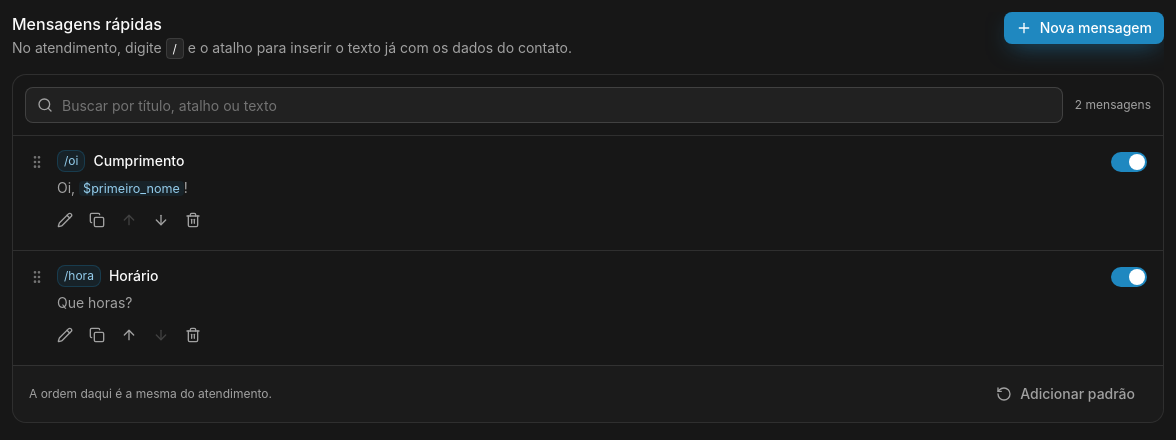
Test case: Mensagens rápidas › busca sem acento e reordena
The width and height of the screenshot is (1176, 440).
Click the button named "Descer Cumprimento": x=161, y=220 [145, 204, 177, 236]
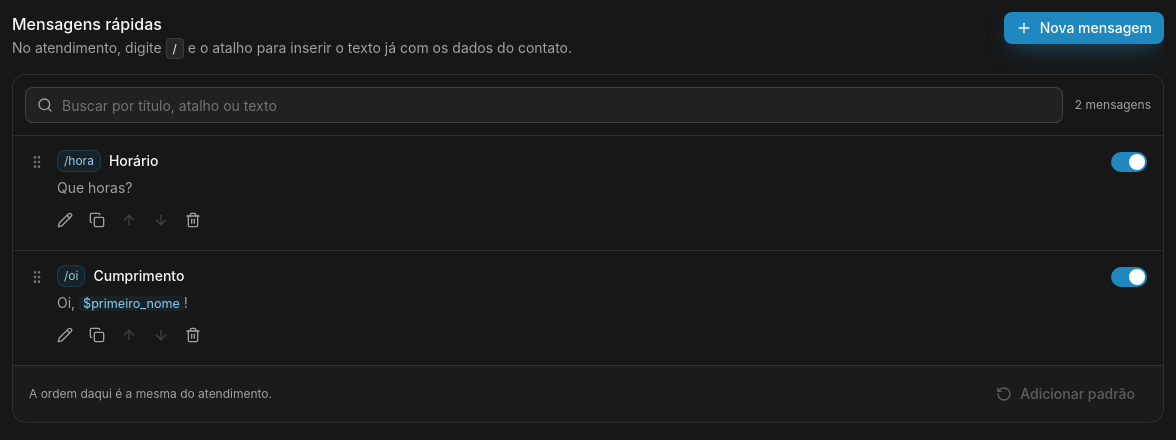
In the field named "Buscar mensagem": x=544, y=105 [25, 87, 1062, 123], type "horario"
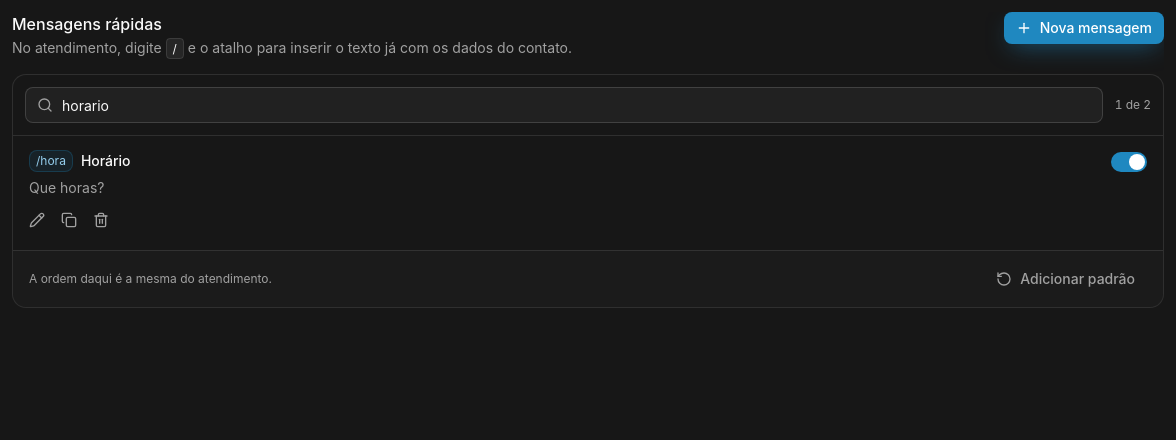
expect the text "Cumprimento" is gone: met
